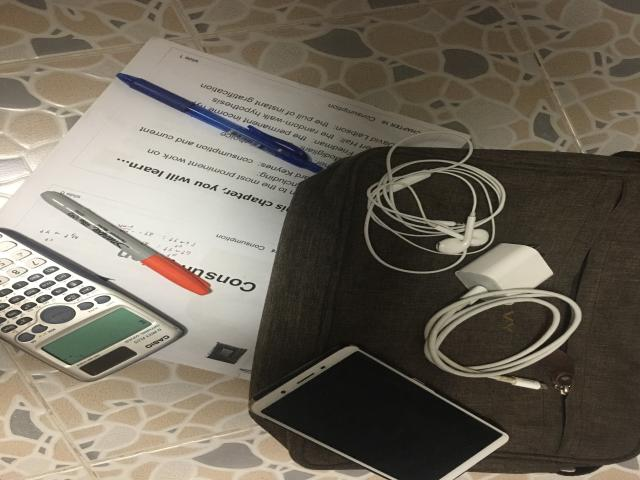Mobile phone: (250, 346, 508, 480)
Pen: (117, 73, 323, 172), (42, 191, 210, 295)
paper: (0, 37, 473, 390)
wire: (423, 244, 582, 389), (365, 133, 507, 274)
